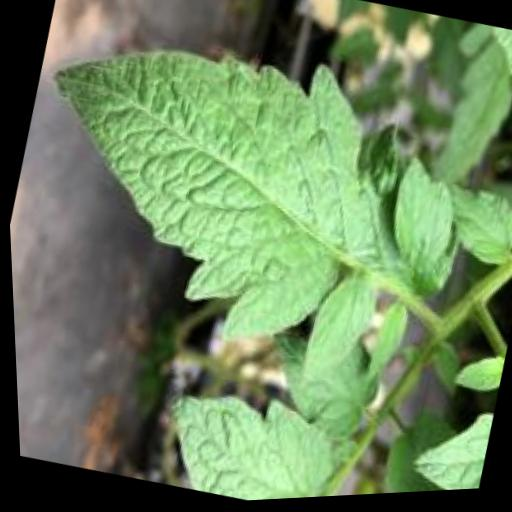Healthy: (1, 0, 434, 411), (146, 373, 343, 507), (375, 161, 464, 291)
